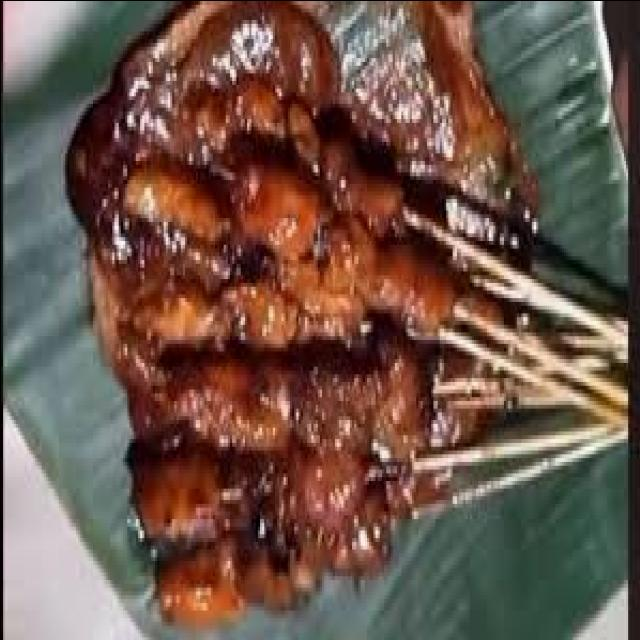sate: (62, 0, 623, 629)
